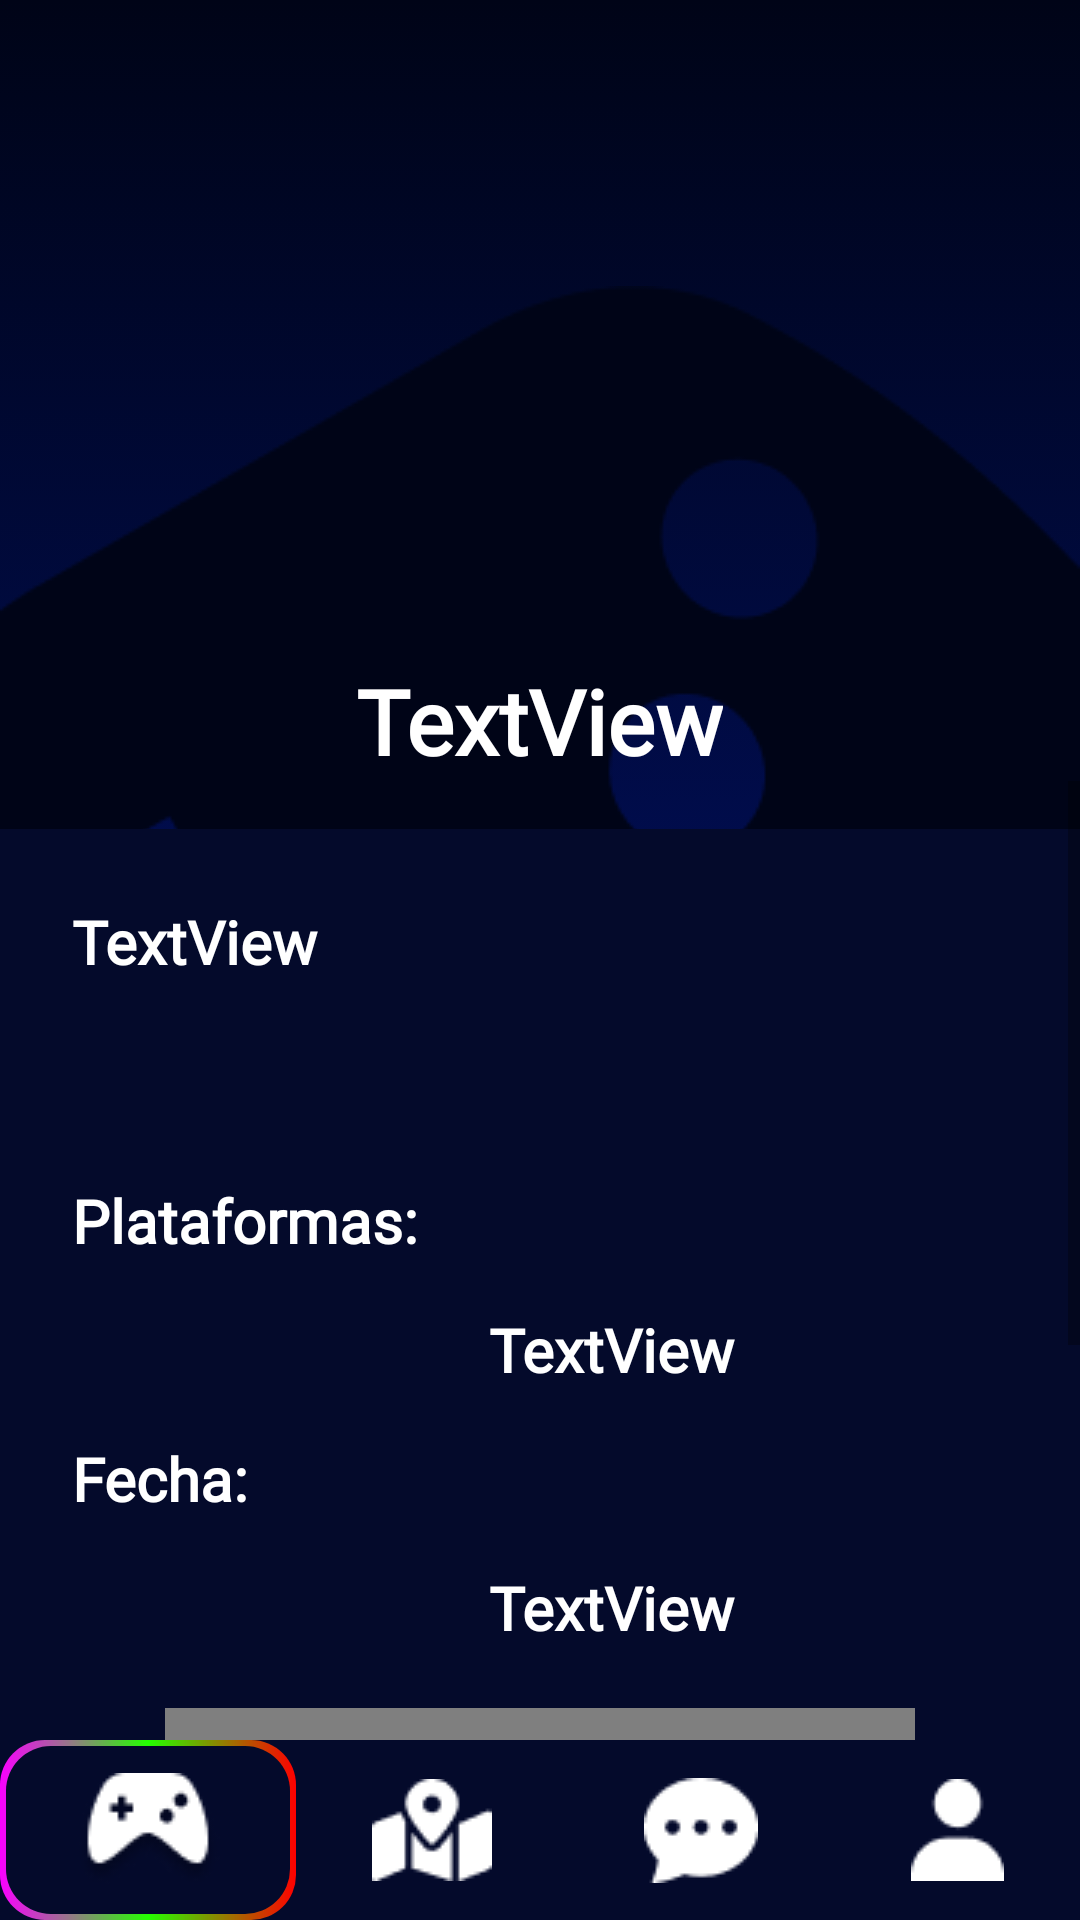

Screen size 1080 x 1920. Icon name, then its center in pixels as (x=x, y=y):
controlrecto: (x=148, y=1818)
mapa: (x=432, y=1830)
